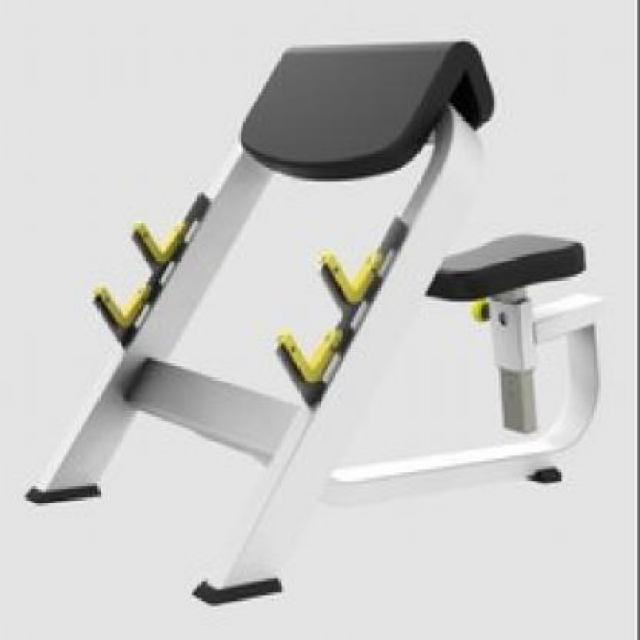arm curl machine: (28, 43, 614, 605)
